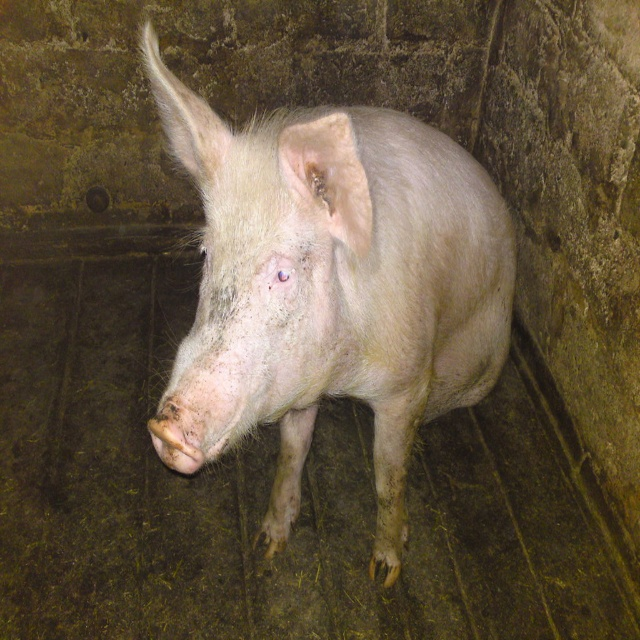Pig: (138, 8, 520, 589)
